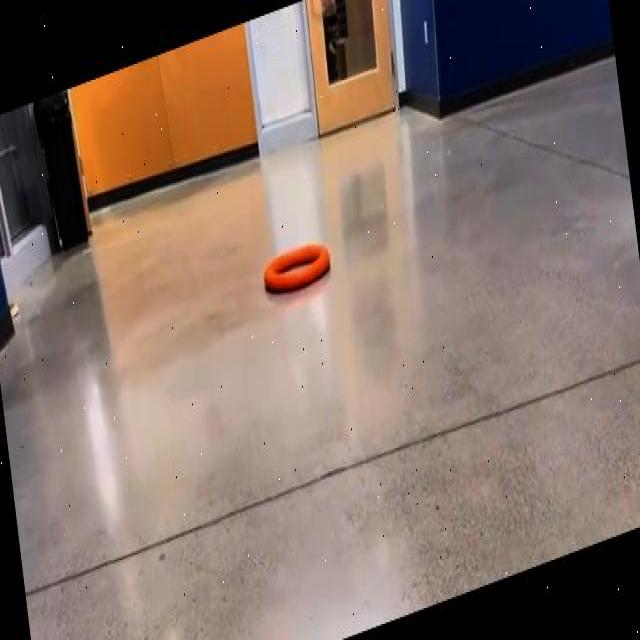note: (264, 242, 330, 292)
